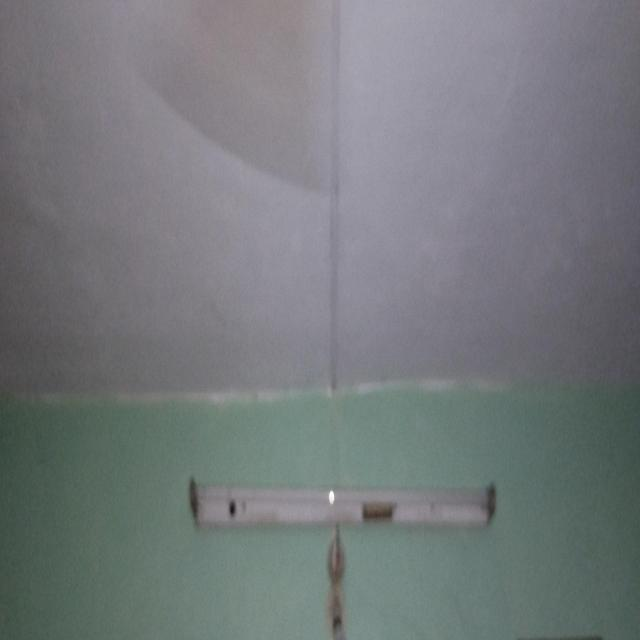tubelight_off: (189, 475, 499, 541)
